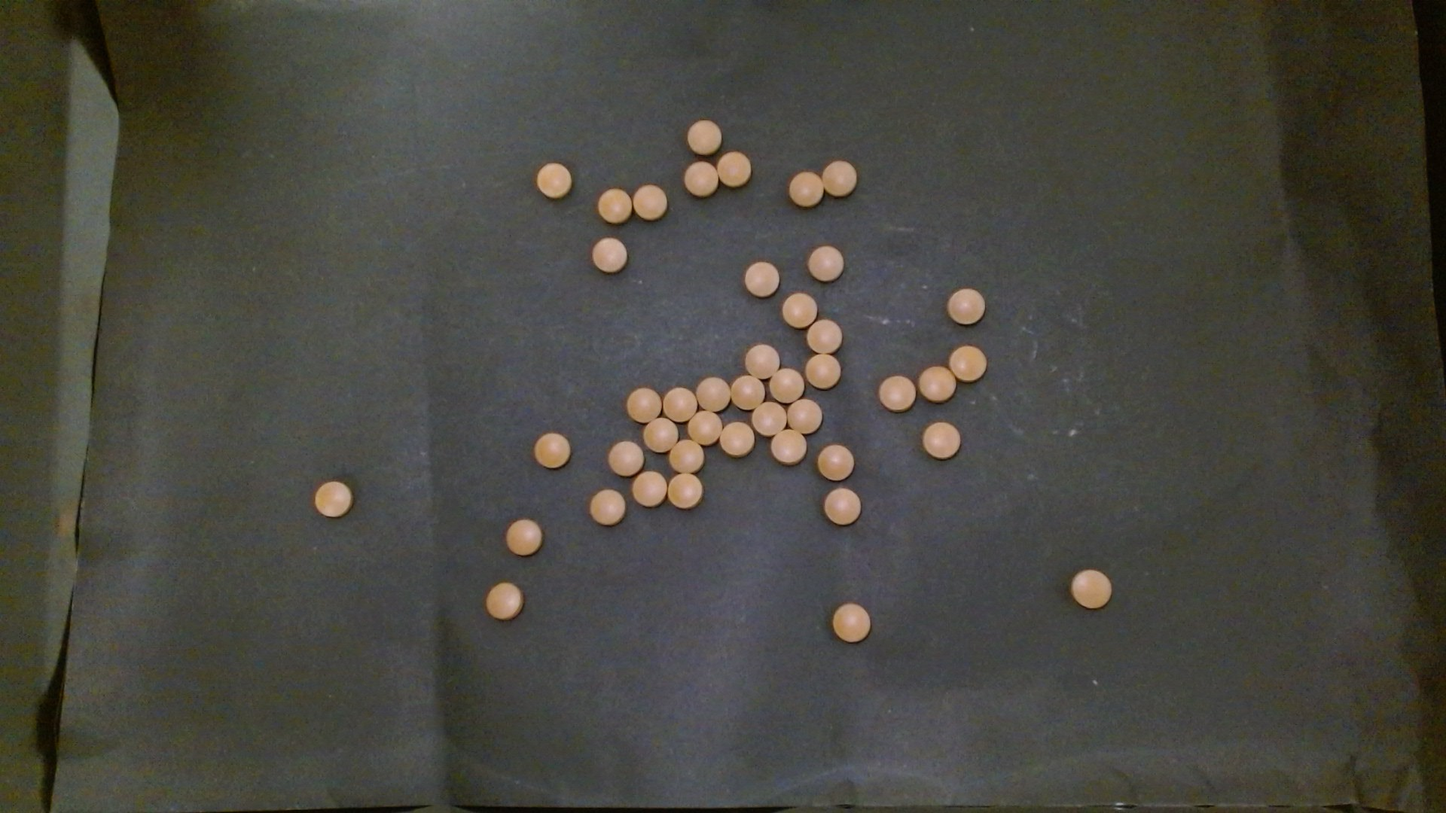Circle: (1069, 568, 1112, 609), (822, 485, 863, 526), (831, 601, 871, 643), (484, 580, 523, 620), (503, 517, 543, 556), (532, 431, 572, 470), (948, 343, 987, 382), (922, 421, 962, 459), (313, 480, 352, 518), (816, 443, 855, 481), (946, 286, 985, 324), (917, 365, 956, 403), (743, 260, 781, 299), (780, 291, 818, 330), (632, 470, 670, 508), (770, 427, 808, 465), (877, 375, 915, 413), (588, 489, 627, 526), (807, 243, 844, 282), (591, 236, 628, 274), (607, 440, 645, 477), (788, 169, 824, 208), (535, 162, 572, 199), (694, 377, 731, 414), (686, 117, 722, 155), (644, 413, 680, 451), (596, 187, 632, 224), (716, 151, 752, 187), (719, 421, 755, 457), (683, 160, 718, 197), (668, 472, 703, 509), (787, 397, 822, 434), (633, 183, 667, 221), (806, 353, 841, 389), (807, 318, 842, 354), (625, 387, 660, 423), (770, 367, 805, 403), (822, 160, 857, 196), (663, 386, 697, 422), (731, 374, 765, 410), (688, 410, 722, 445), (669, 438, 703, 473), (752, 403, 784, 435), (745, 343, 779, 373)
